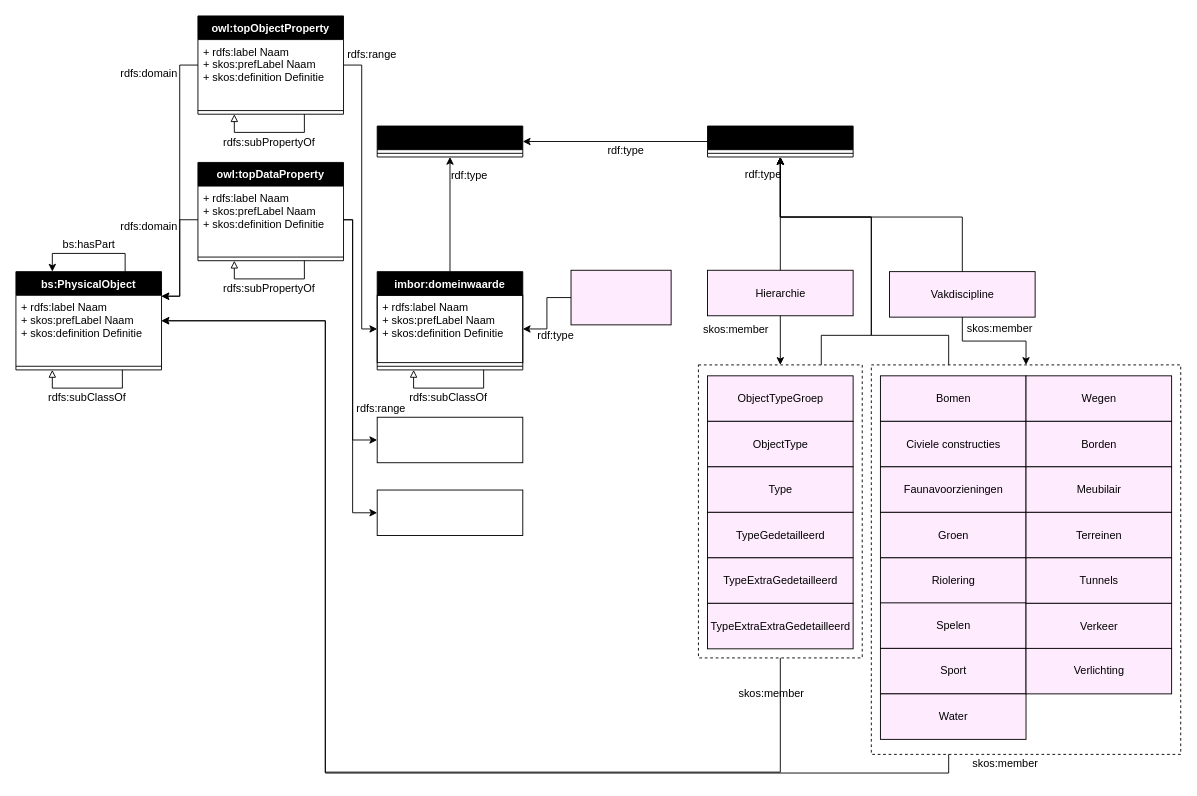
The diagram is 1197 pixels wide and 796 high, and some of its shapes have lost their labels. Each missing label, with the centre of its shape:
domeinwaarde: the point at 620,297
owl:class: the point at 449,141
qudt:..: the point at 449,512
skos:collection: the point at 780,141
xsd:string: the point at 449,439
